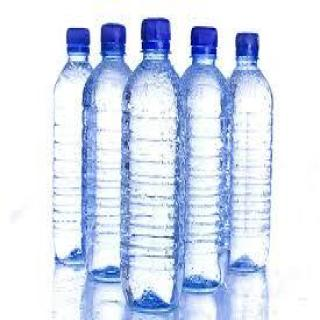Plastic-bottle: (121, 17, 187, 318), (81, 22, 142, 288), (182, 26, 233, 299), (229, 31, 276, 276), (52, 28, 95, 271)
